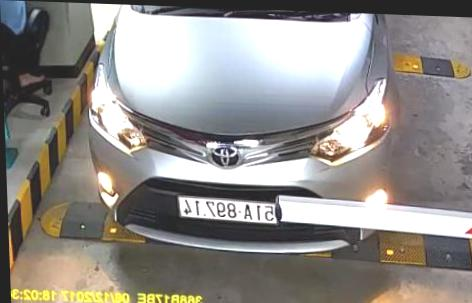License_Plate: (173, 193, 280, 231)
